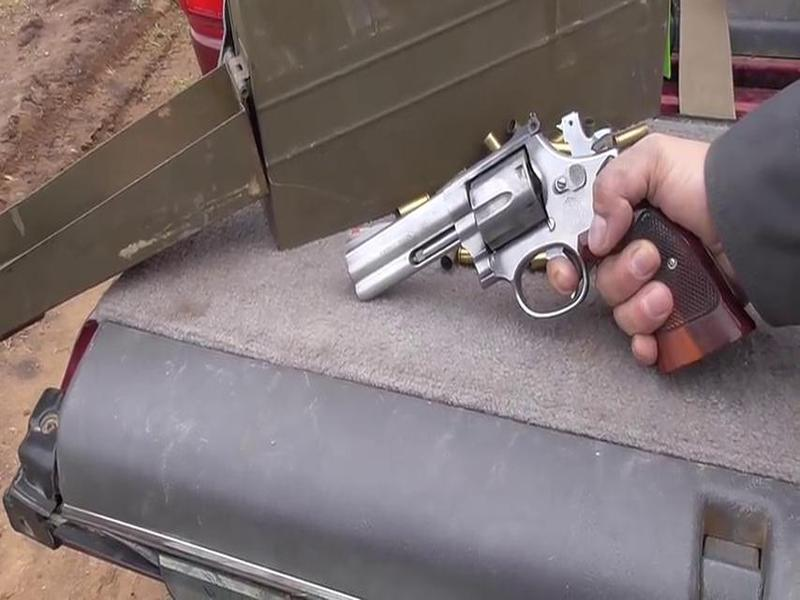Revolver: (320, 107, 738, 408)
